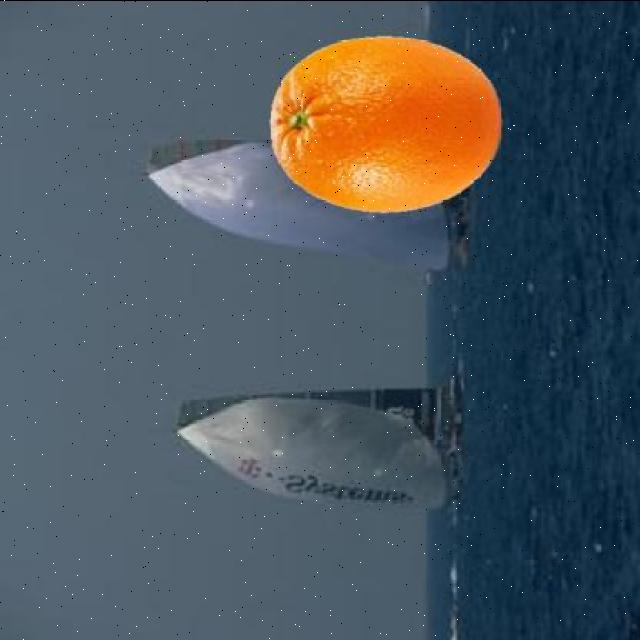Orange: (266, 34, 503, 215)
